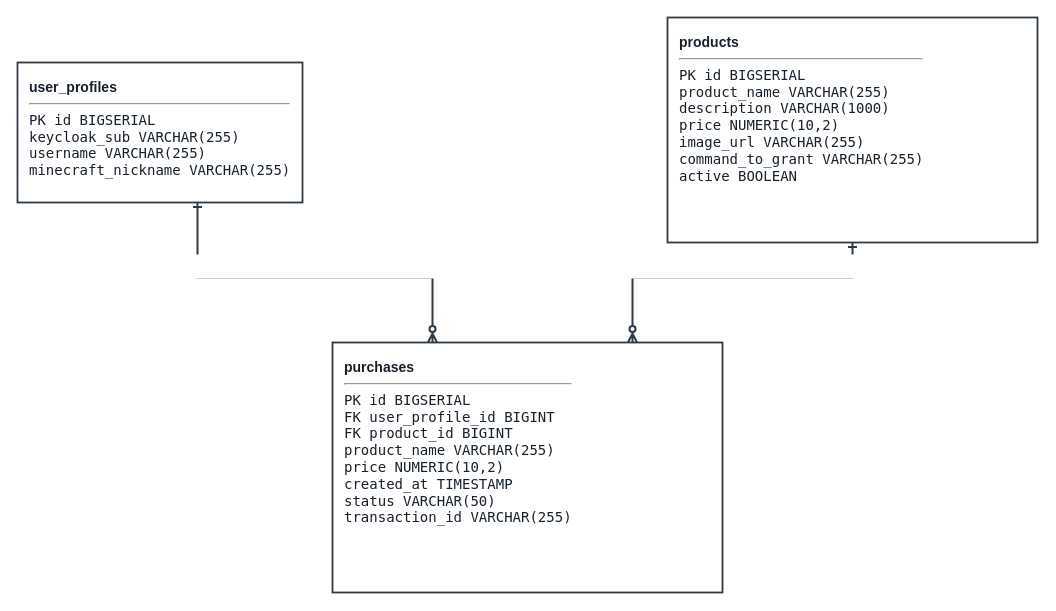
The diagram is 1056 pixels wide and 611 high, and some of its shapes have lost their labels. Each missing label, with the centre of its shape:
"products.id = purchases.product_id" goes at pixel 742 266.
"user_profiles.id = purchases.user_profile_id" goes at pixel 322 266.
